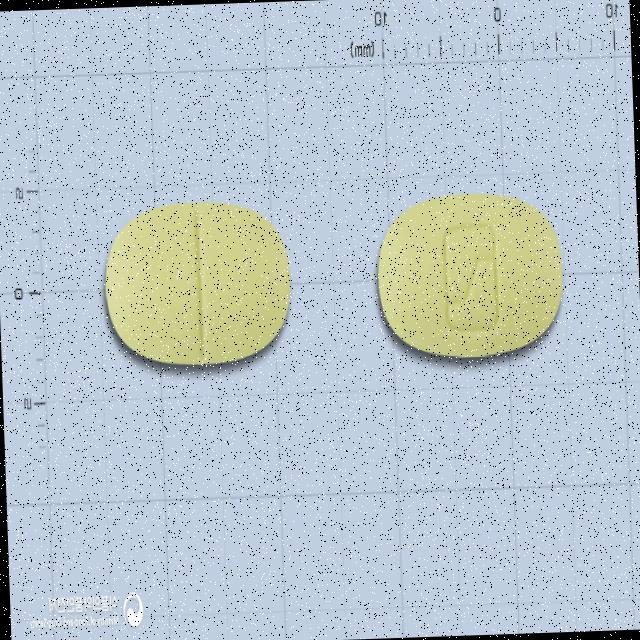Claroma Tab-500mg: (372, 184, 566, 364), (100, 197, 294, 373)
